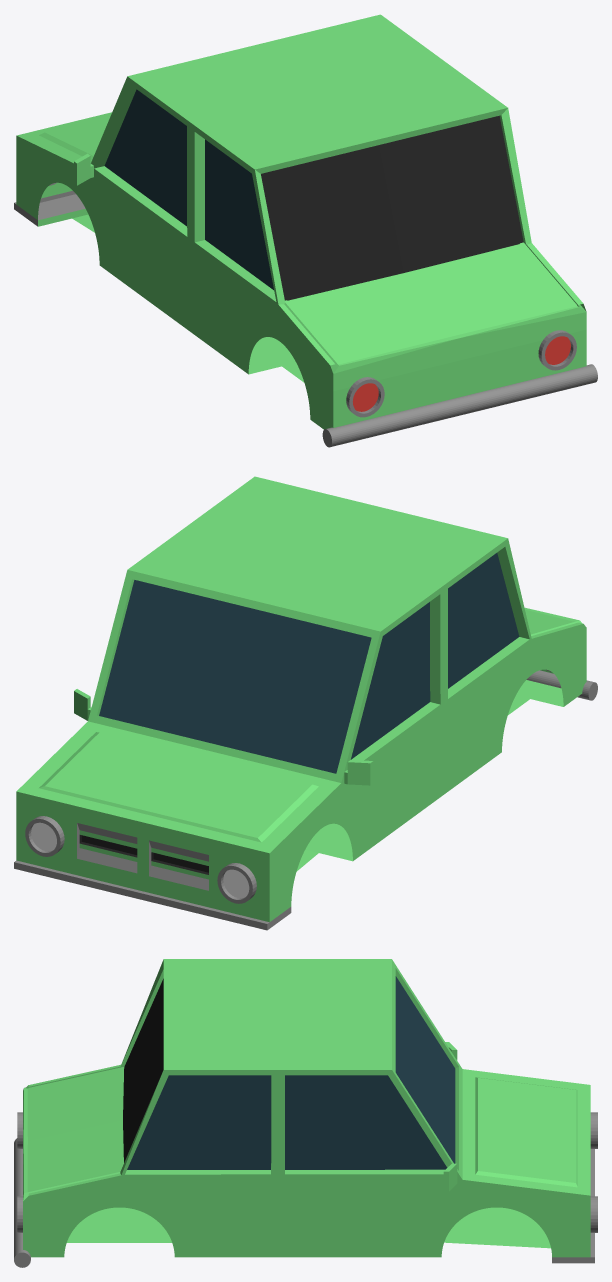
The model's file is Green Car.fbx.
3 renders of one model, top to bottom at view 1: azimuth 30°, elevation 25°; view 2: azimuth 150°, elevation 25°; view 3: azimuth 270°, elevation 25°, orthographic. The views are drawn at different scales.
Visible parts, largest first — view 1: Cube, Cube.001, Cylinder.004; view 2: Cube, Cylinder.002, Cube.001; view 3: Cube, Cube.001, Cylinder.002, Cylinder.004.
Part boxes in pixels (x1,y1,x2,y2): Cube: [14, 14, 586, 429]; Cube.001: [322, 364, 597, 447]; Cylinder.004: [346, 330, 576, 417]; Cube: [14, 476, 586, 930]; Cylinder.002: [25, 816, 256, 903]; Cube.001: [526, 670, 597, 700]; Cube: [23, 959, 594, 1263]; Cube.001: [14, 1138, 30, 1267]; Cylinder.002: [590, 1112, 597, 1232]; Cylinder.004: [17, 1112, 22, 1232].
Size of the model in its own units: 143 by 273 by 101.
